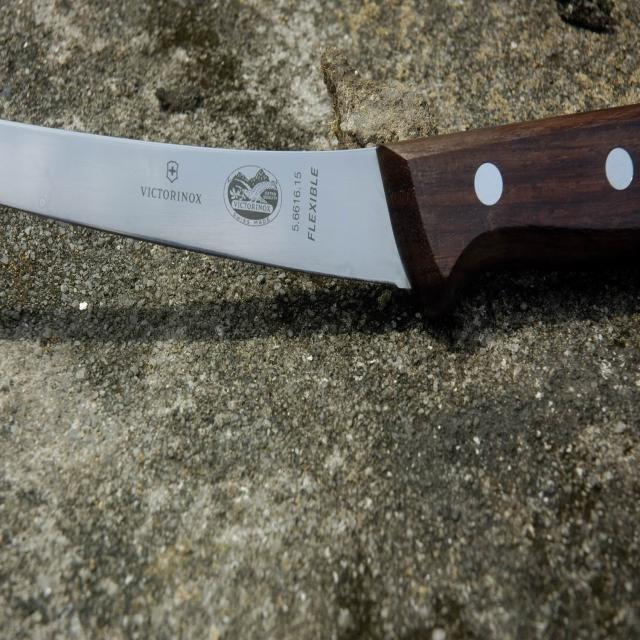Pisau: (2, 95, 640, 330)
